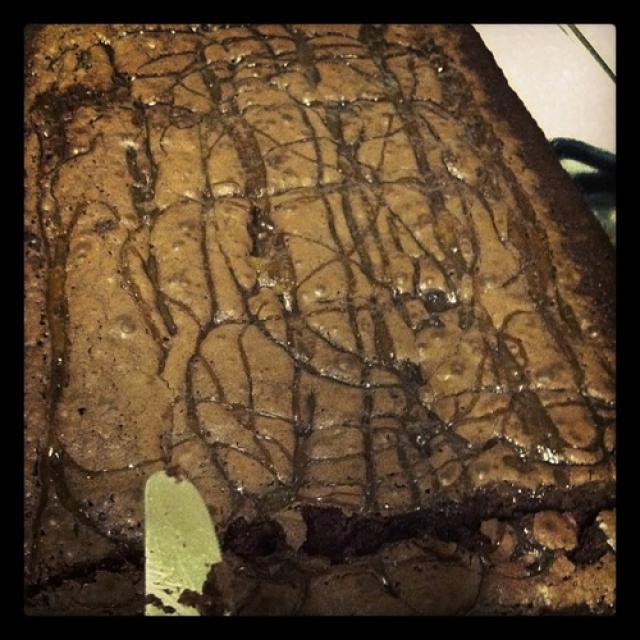蛋糕甜品: (22, 26, 609, 599)
